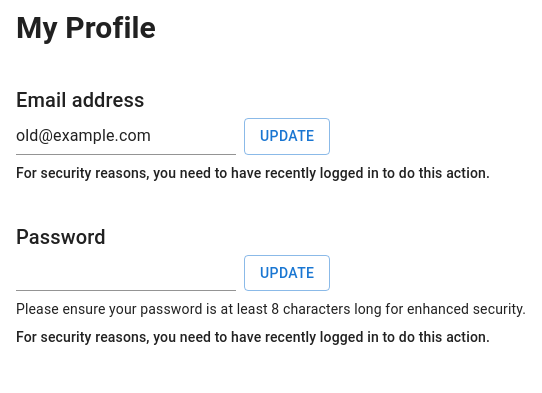
Scenario: Profile Component › updates password successfully
Note: Simulate entering a new password
Replace the text in the field with "password123" at (126, 136), box top-left (16, 120), bottom-right (236, 152)
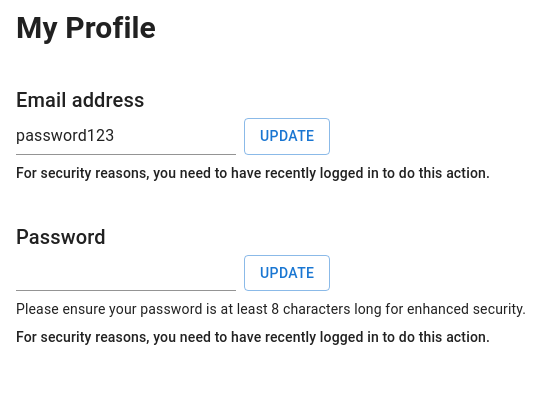
Note: Find and click the update button
Click the button with test id "update-password-button" at (287, 273), box top-left (244, 254), bottom-right (330, 291)
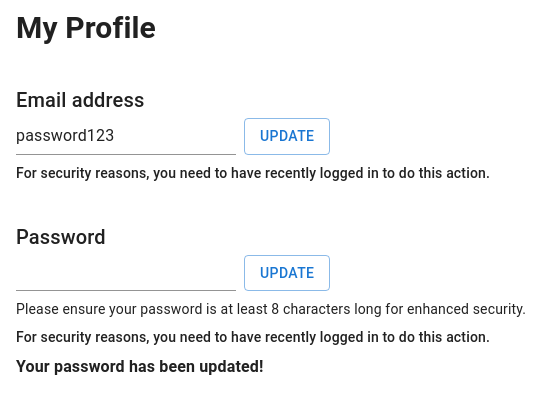
Now the text "Your password has been updated!" is shown, box top-left (16, 357), bottom-right (264, 376)
